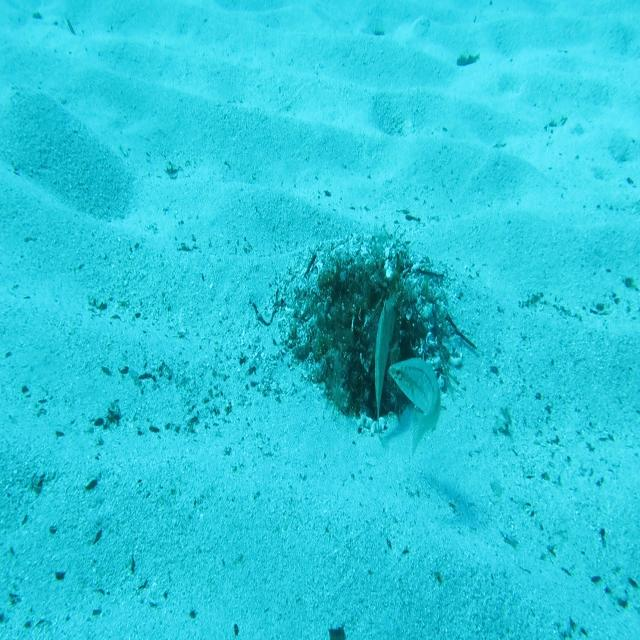FAN: (372, 292, 398, 450)
core_nest: (341, 274, 385, 309)
female: (387, 356, 442, 458)
nest: (269, 227, 467, 458)
vegetation: (455, 51, 481, 71)
